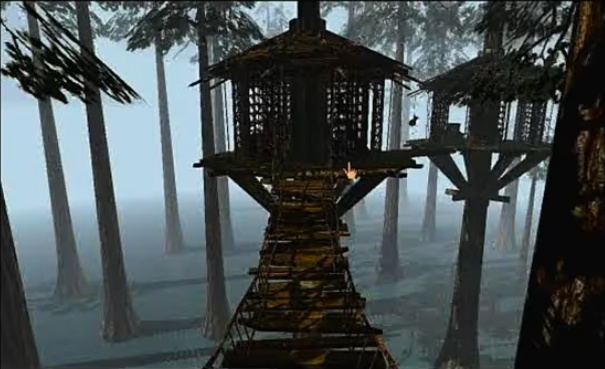Pointer: (339, 159, 363, 182)
